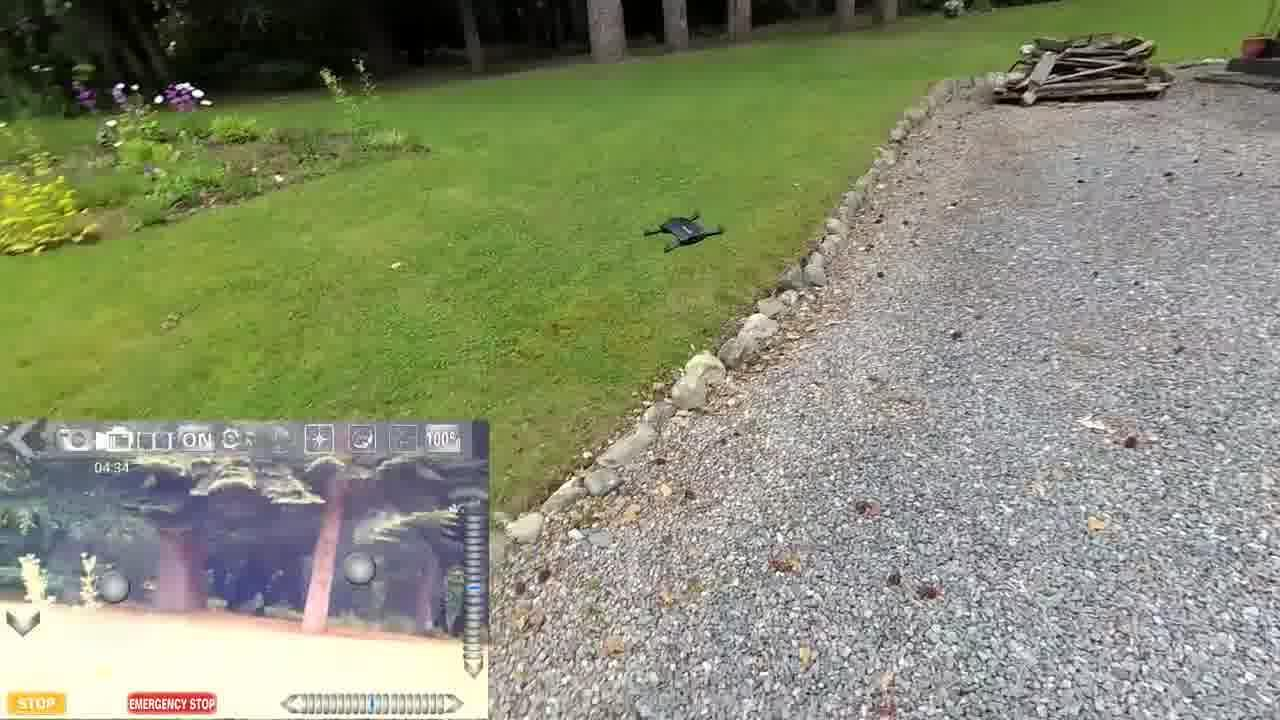drone: (648, 205, 729, 262)
